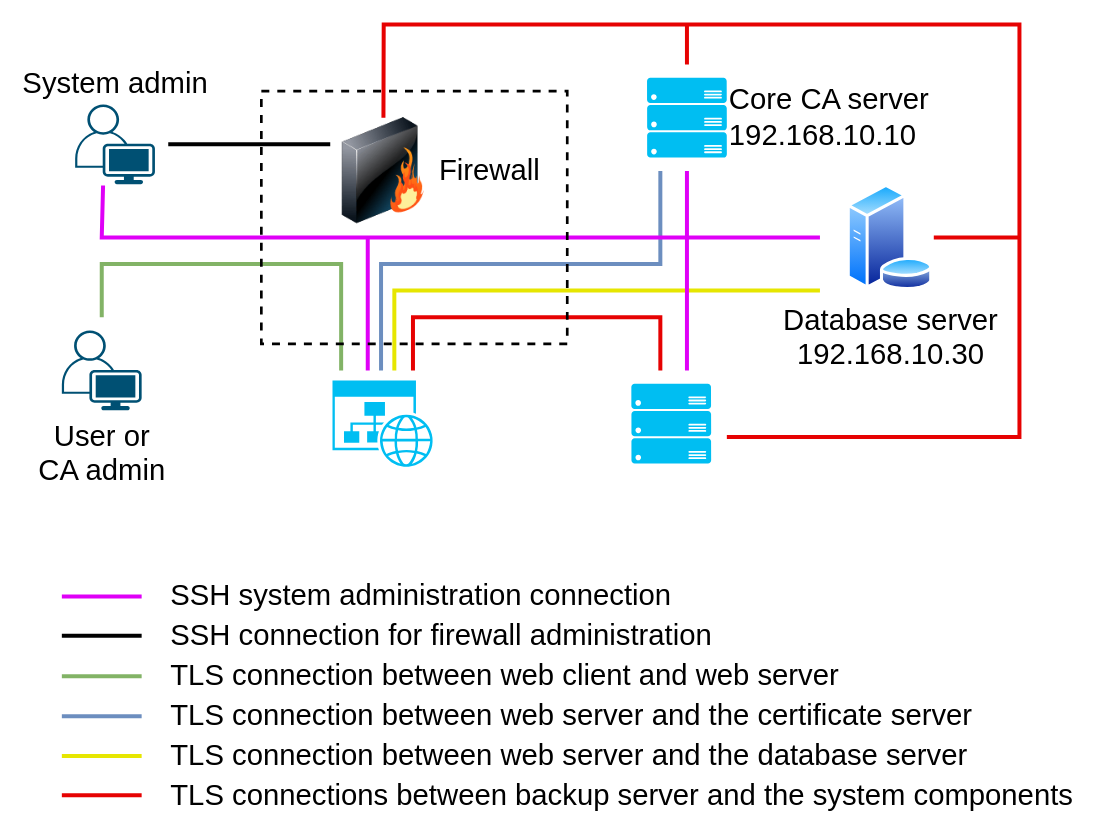
The diagram is 1109 pixels wide and 839 high, and some of its shapes have lost their labels. Each missing label, with the centre of its shape:
"Backup server 192.168.10.20" belongs at point 670,423.
"Web server 192.168.20.10" belongs at point 383,423.
